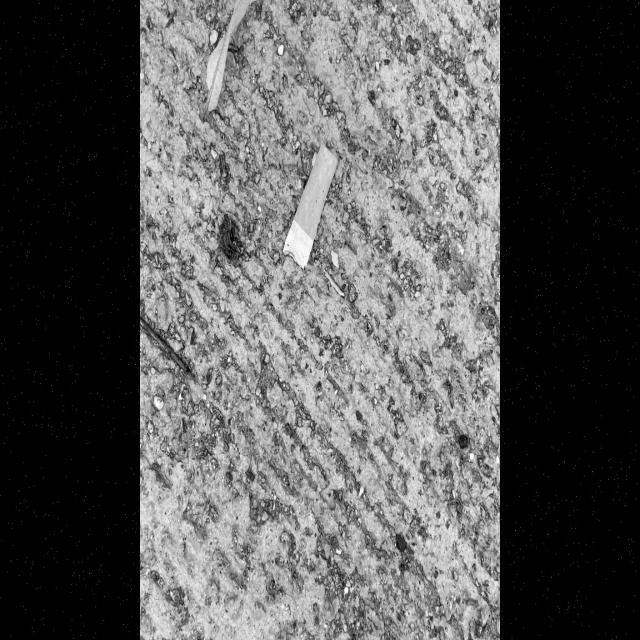other waste: (282, 143, 338, 270)
